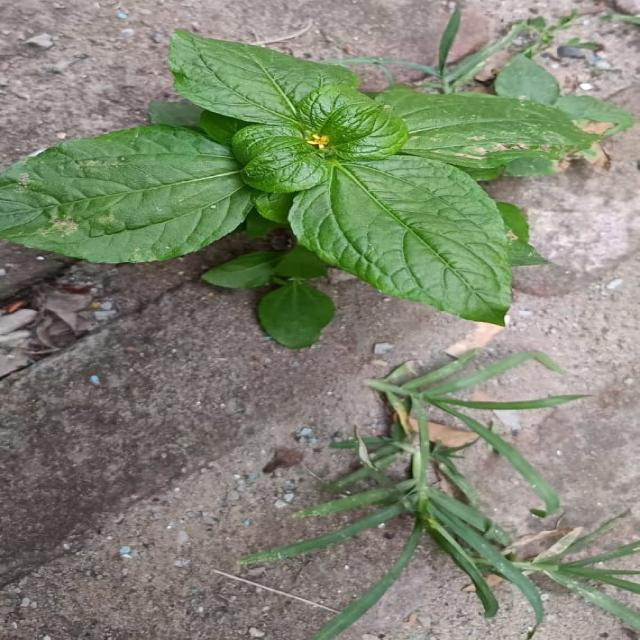weed: (2, 30, 633, 348)
